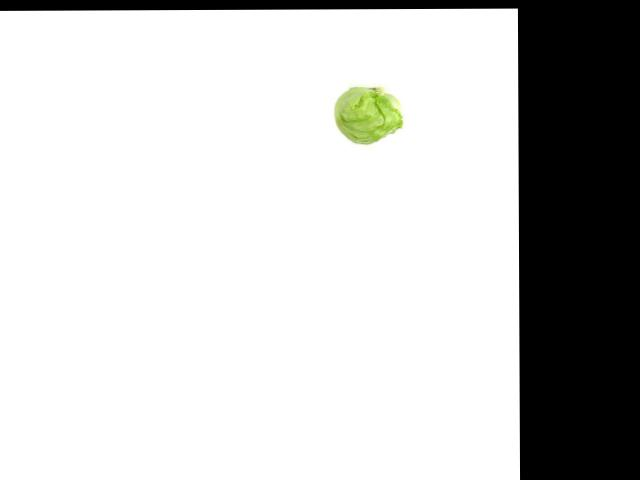lettuce: (327, 86, 410, 150)
